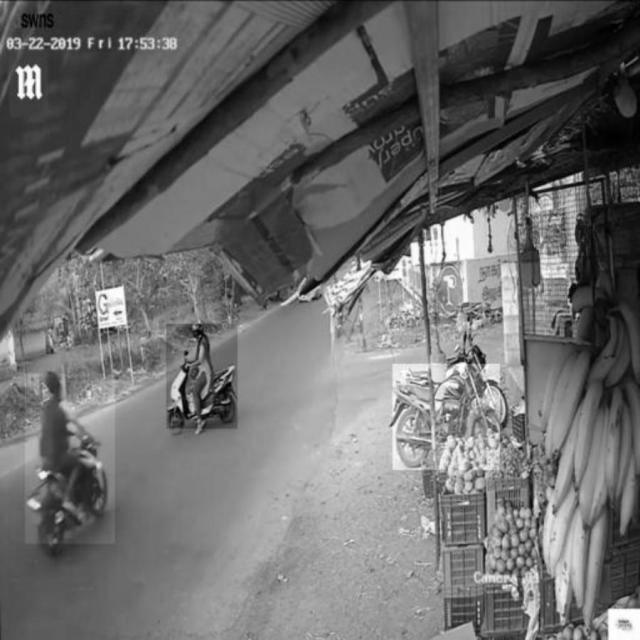vehicle: (25, 374, 115, 544), (393, 364, 501, 470), (167, 325, 238, 429)
